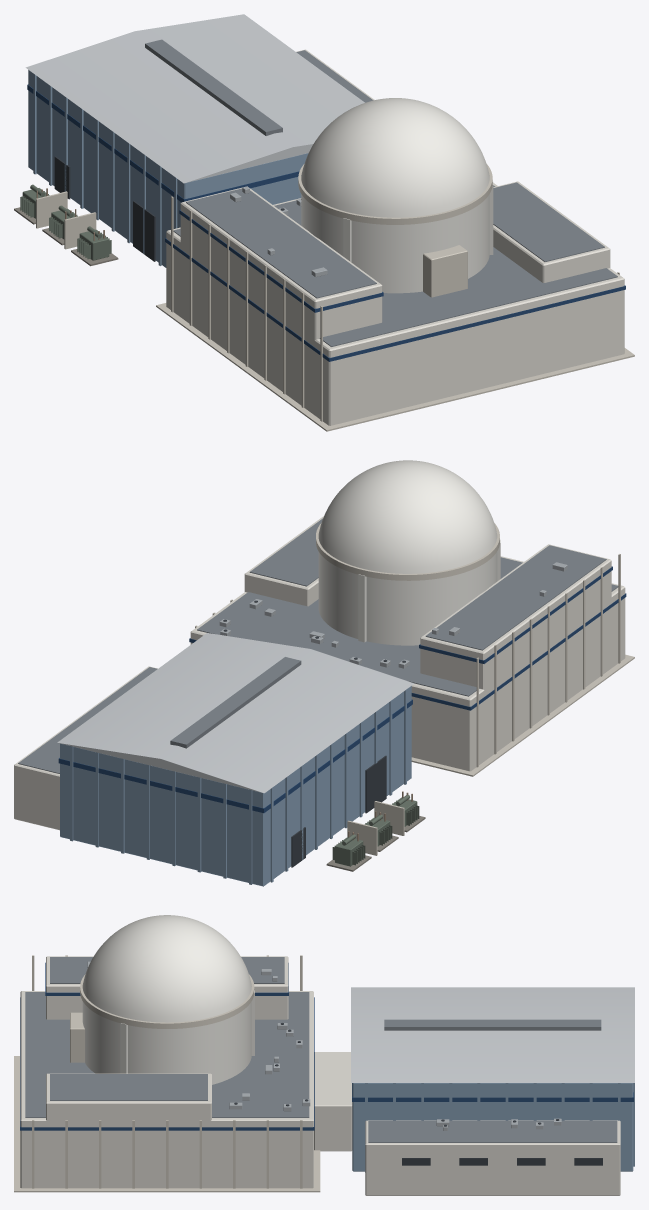
File: reactor-unit.glb
3 views of the same model, one above another, from view 1: azimuth 30°, elevation 25°; view 2: azimuth 150°, elevation 25°; view 3: azimuth 270°, elevation 25° (orthographic). The views are drawn at different scales.
Visible parts, largest first — view 1: reactor_unit__concrete_white, reactor_unit__roof_metal, reactor_unit__dome_white, reactor_unit__roof_dark, reactor_unit__cladding_blue, reactor_unit__concrete_light, reactor_unit__accent_navy, reactor_unit__transformer, reactor_unit__steel_dark; view 2: reactor_unit__cladding_blue, reactor_unit__roof_metal, reactor_unit__concrete_white, reactor_unit__dome_white, reactor_unit__roof_dark, reactor_unit__concrete_light, reactor_unit__accent_navy, reactor_unit__transformer, reactor_unit__steel_dark, reactor_unit__hvac; view 3: reactor_unit__concrete_white, reactor_unit__roof_dark, reactor_unit__roof_metal, reactor_unit__dome_white, reactor_unit__cladding_blue, reactor_unit__concrete_light, reactor_unit__accent_navy, reactor_unit__hvac, reactor_unit__steel_dark.
Boxes of the visible parts, <box> form: reactor_unit__concrete_white: <box>166,49,624,425</box>; reactor_unit__roof_metal: <box>25,14,364,183</box>; reactor_unit__dome_white: <box>301,98,493,293</box>; reactor_unit__roof_dark: <box>145,39,617,346</box>; reactor_unit__cladding_blue: <box>28,70,308,267</box>; reactor_unit__concrete_light: <box>36,164,634,431</box>; reactor_unit__accent_navy: <box>27,84,625,361</box>; reactor_unit__transformer: <box>20,184,111,260</box>; reactor_unit__steel_dark: <box>54,156,301,261</box>; reactor_unit__cladding_blue: <box>60,686,411,886</box>; reactor_unit__roof_metal: <box>57,633,414,793</box>; reactor_unit__concrete_white: <box>14,516,625,830</box>; reactor_unit__dome_white: <box>318,460,500,645</box>; reactor_unit__roof_dark: <box>18,518,618,773</box>; reactor_unit__concrete_light: <box>195,523,634,855</box>; reactor_unit__accent_navy: <box>58,566,626,813</box>; reactor_unit__transformer: <box>332,795,419,866</box>; reactor_unit__steel_dark: <box>223,600,405,867</box>; reactor_unit__hvac: <box>219,562,567,668</box>; reactor_unit__concrete_white: <box>20,956,620,1195</box>; reactor_unit__roof_dark: <box>25,957,617,1142</box>; reactor_unit__roof_metal: <box>351,987,634,1082</box>; reactor_unit__dome_white: <box>82,915,254,1084</box>; reactor_unit__cladding_blue: <box>352,1083,634,1172</box>; reactor_unit__concrete_light: <box>14,955,320,1192</box>; reactor_unit__accent_navy: <box>20,962,633,1130</box>; reactor_unit__hvac: <box>87,961,561,1130</box>; reactor_unit__steel_dark: <box>234,1023,602,1165</box>.
Size of the model in its own units: 106 by 69.7 by 194.
